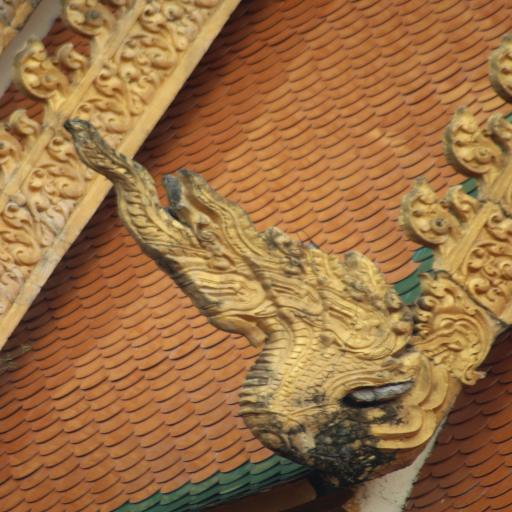la: (19, 38, 71, 97), (62, 0, 114, 42)
ran: (65, 114, 424, 469), (446, 100, 504, 179), (404, 175, 463, 246), (4, 103, 40, 149), (486, 43, 512, 100)
